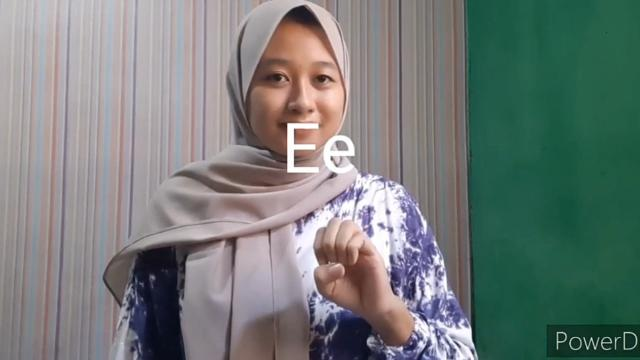E: (311, 214, 393, 320)
